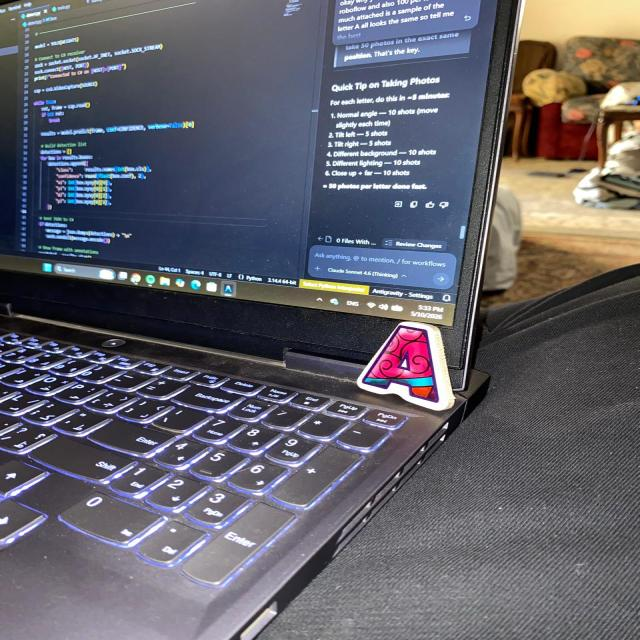A: (358, 322, 454, 410)
